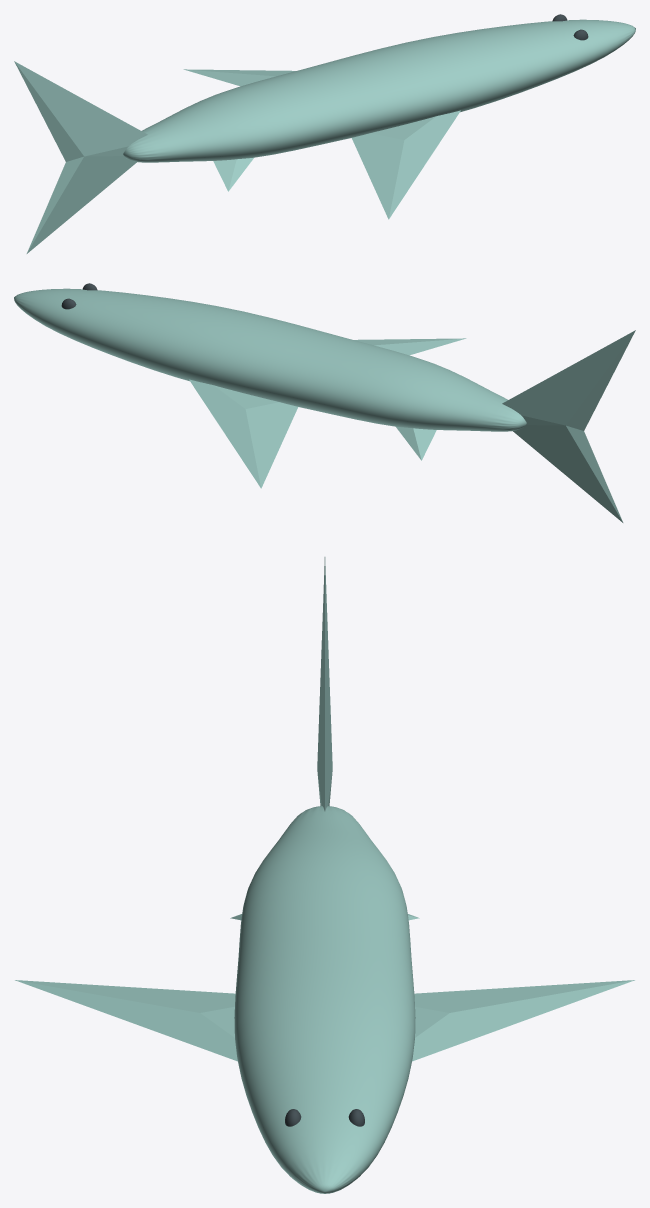
3 views of the same model, one above another, from view 1: azimuth 30°, elevation 25°; view 2: azimuth 150°, elevation 25°; view 3: azimuth 270°, elevation 25° (orthographic). The views are drawn at different scales.
Parts seen in each view (by area): view 1: Body, Tail, Pectoral, Pectoral.001, Pelvic; view 2: Body, Tail, Pectoral.001, Pectoral, Pelvic.001; view 3: Body, Pectoral, Pectoral.001, Tail.
Boxes of the visible parts, x1=… form: Body: x1=123, y1=19, x2=635, y2=162; Tail: x1=14, y1=61, x2=147, y2=253; Pectoral: x1=351, y1=110, x2=460, y2=219; Pectoral.001: x1=183, y1=69, x2=295, y2=86; Pelvic: x1=213, y1=157, x2=253, y2=191; Body: x1=14, y1=288, x2=526, y2=431; Tail: x1=502, y1=330, x2=635, y2=522; Pectoral.001: x1=189, y1=379, x2=298, y2=488; Pectoral: x1=354, y1=338, x2=466, y2=355; Pelvic.001: x1=396, y1=426, x2=436, y2=460; Body: x1=234, y1=806, x2=415, y2=1193; Pectoral: x1=15, y1=980, x2=237, y2=1061; Pectoral.001: x1=412, y1=980, x2=634, y2=1061; Tail: x1=317, y1=557, x2=332, y2=811.
Size of the model in its own units: 252 by 76 by 144.
